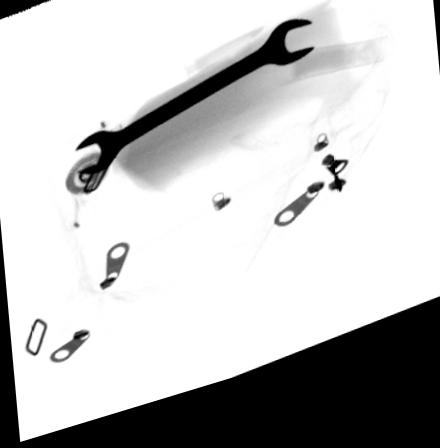Wrench: (70, 34, 316, 182)
